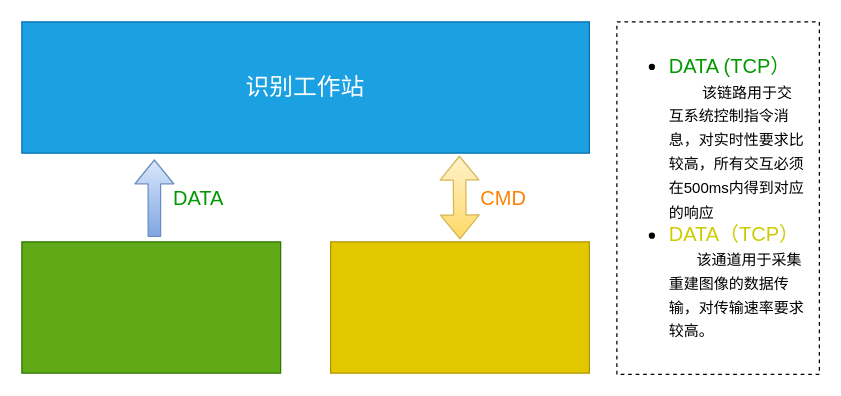
Image size: 841x396. Some labels were removed from this diagram. The shapes that lost their labels are listed below. From the top down, each one's box as (x1, y1, x2, y2) in pixels, then its label:
(21, 241, 281, 373): 重建工作站
(329, 241, 589, 373): 系统控制计算机
